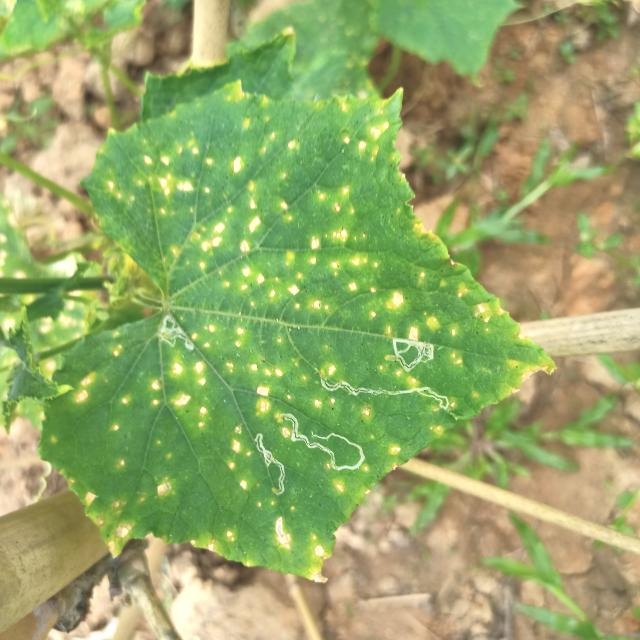disease_cucumber: (106, 92, 518, 343), (77, 342, 463, 584)
